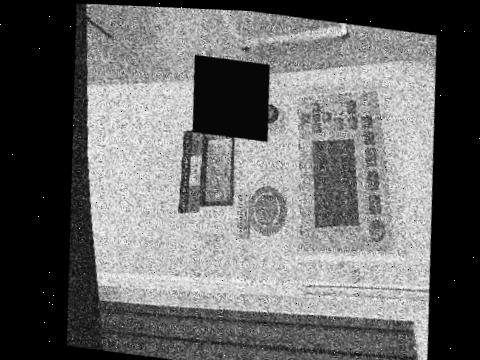Amp_Meter: (191, 133, 237, 210)
Display: (311, 139, 358, 227)
Down_button: (319, 110, 331, 122)
Emergency_Stop: (247, 186, 285, 236)
Enter_button: (331, 102, 341, 115)
Esc_button: (332, 117, 342, 130)
File_button: (361, 115, 371, 128)
Frame_button: (345, 101, 355, 113)
Left_button: (311, 123, 320, 133)
Max-Power_button: (362, 131, 373, 145)
Min-Power_button: (364, 148, 375, 167)
Origin_button: (346, 116, 357, 129)
Power_switch: (266, 104, 277, 124)
Pulse_button: (367, 195, 380, 215)
Reset_button: (367, 220, 384, 242)
Right_button: (309, 101, 320, 113)
Speed_button: (366, 171, 378, 190)
Start-Pause_button: (359, 100, 369, 112)
Up_button: (299, 112, 311, 125)
Z_U_button: (310, 113, 320, 122)
